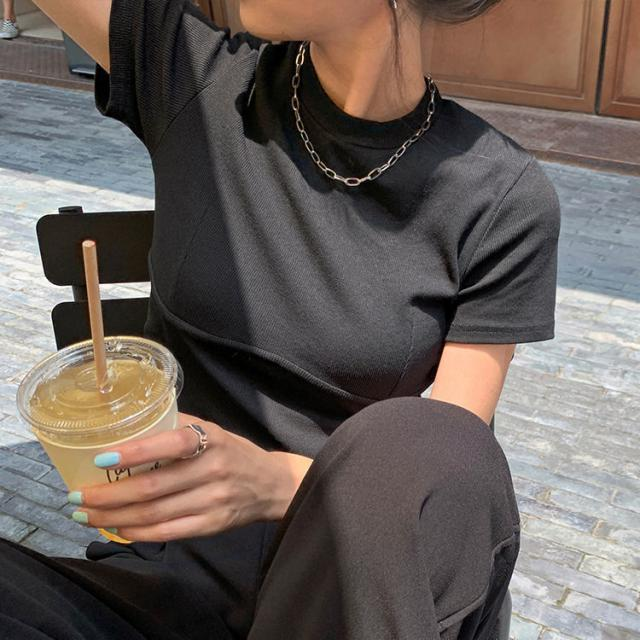Shirt: (89, 0, 566, 557)
